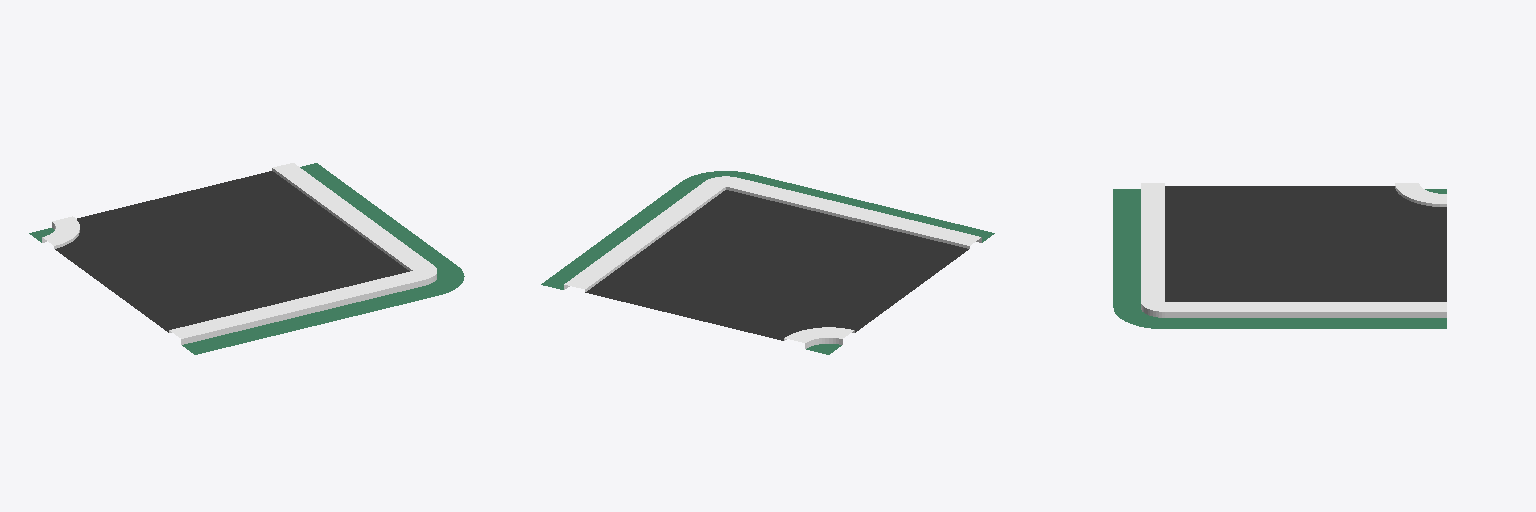
Rendered from roadCornerSmallSquare.obj.
3 renders of one model, left to right at view 1: azimuth 30°, elevation 25°; view 2: azimuth 150°, elevation 25°; view 3: azimuth 270°, elevation 25°, orthographic.
Parts seen in each view (by area): view 1: roadCornerSmallSquare; view 2: roadCornerSmallSquare; view 3: roadCornerSmallSquare.
Part boxes in pixels (x1,y1,x2,y2): roadCornerSmallSquare: (29, 163, 464, 354); roadCornerSmallSquare: (541, 171, 994, 354); roadCornerSmallSquare: (1113, 183, 1446, 328).
Size of the model in its own units: 10 by 0.2 by 10.